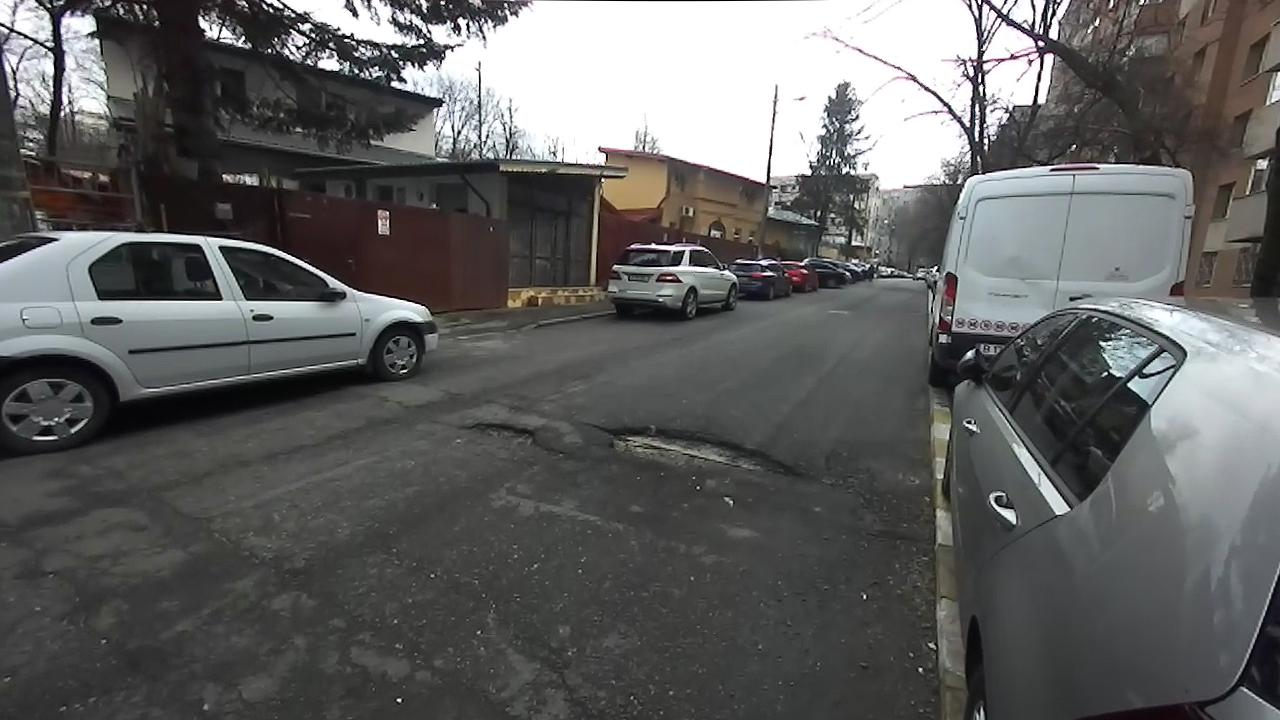pothole: (581, 419, 812, 489), (457, 419, 568, 460)
